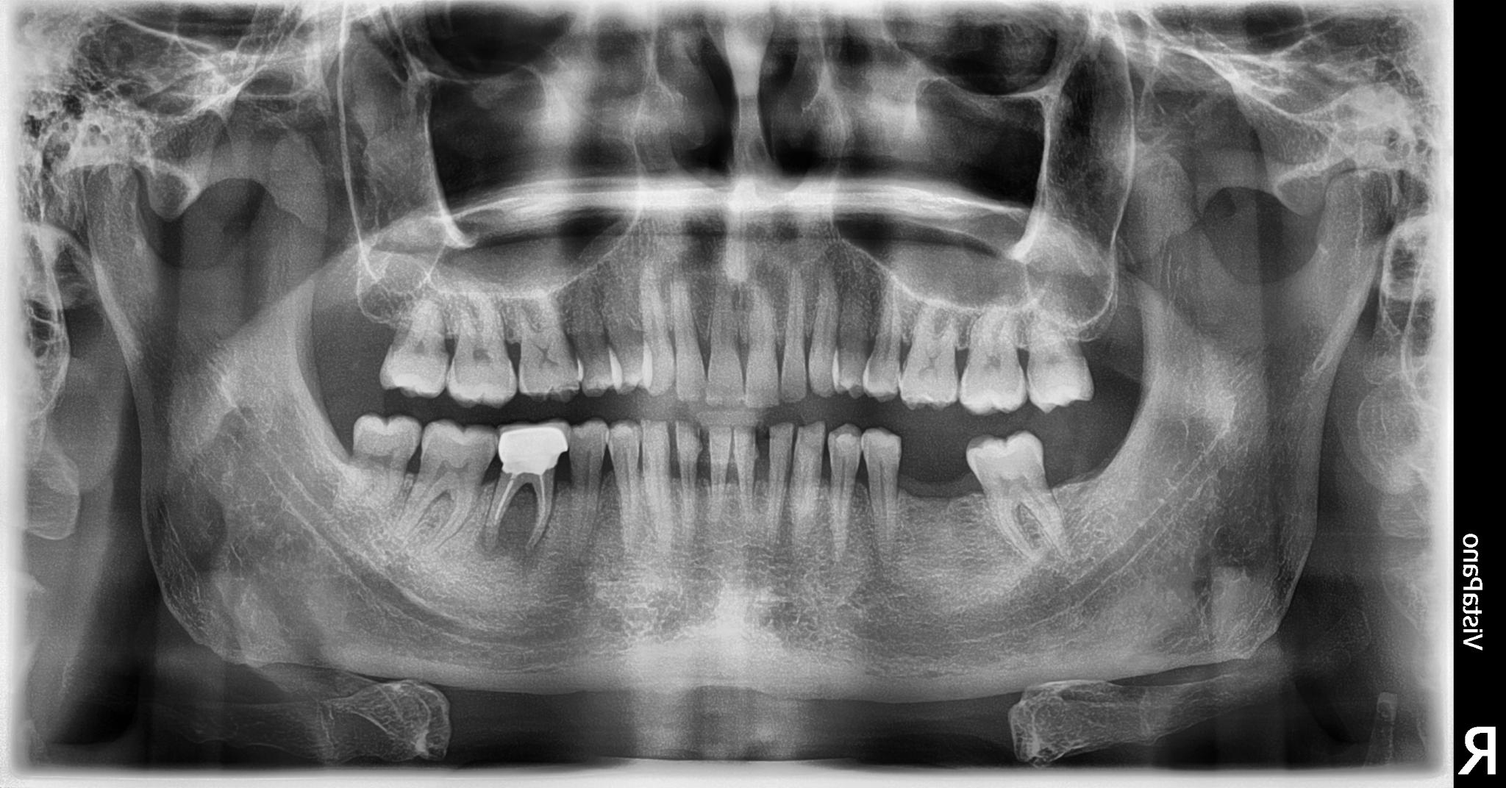Premolars: (263, 200, 756, 623)
